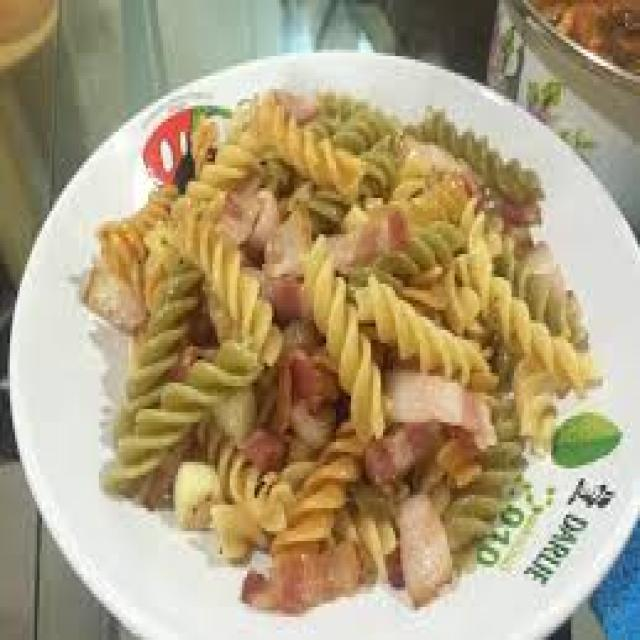pasta: (153, 136, 505, 564)
